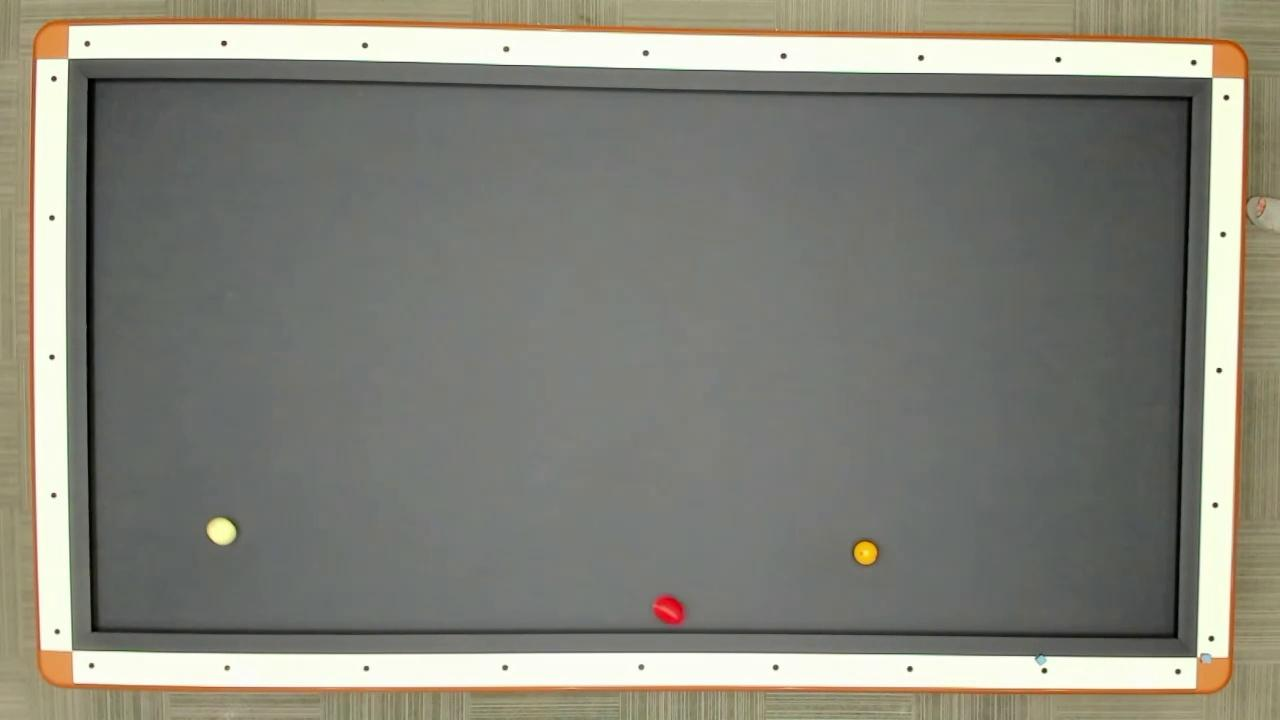Red: (650, 594, 687, 628)
White: (204, 516, 240, 548)
Yellow: (851, 538, 880, 568)
